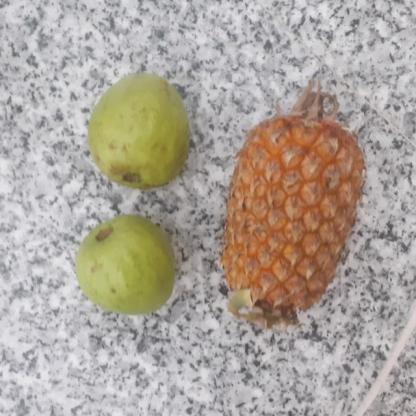guava: (85, 75, 190, 184), (71, 217, 175, 315)
pineapple: (221, 113, 362, 324)
